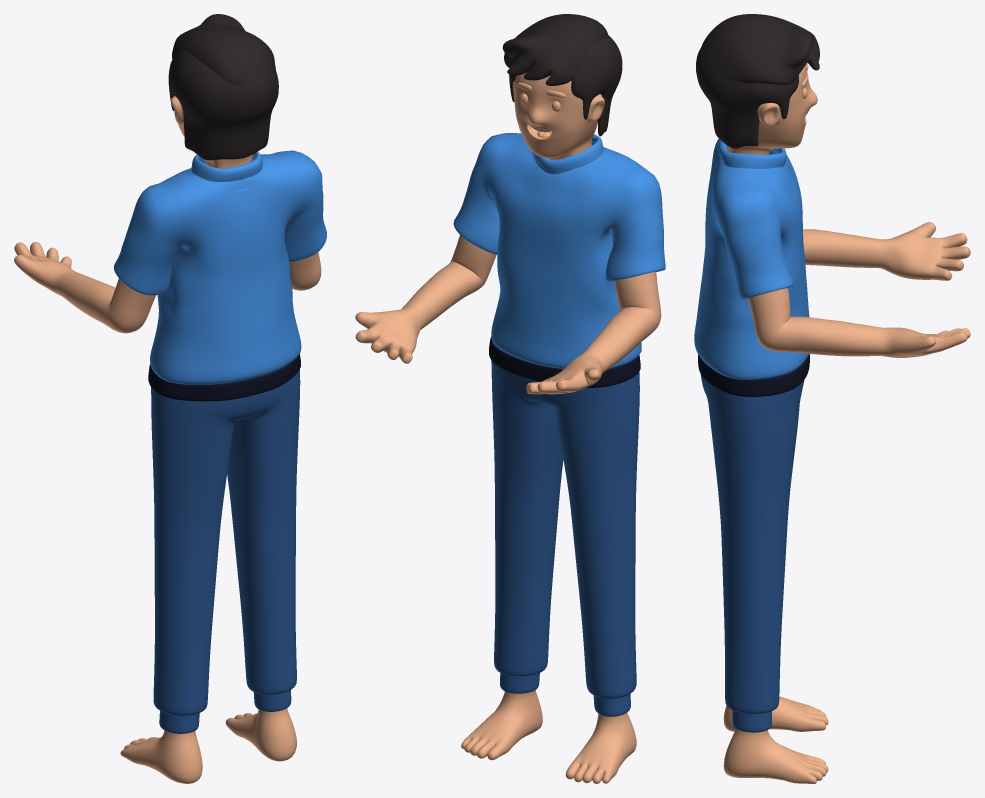
Rendered from figure1.glb.
3 views of the same model, side by side, from view 1: azimuth 30°, elevation 25°; view 2: azimuth 150°, elevation 25°; view 3: azimuth 270°, elevation 25° (orthographic).
Visible parts, largest first — view 1: Cylinder.005, Cylinder.003, Cylinder.001, Cylinder.008, Cylinder.002, Cylinder.004; view 2: Cylinder.005, Cylinder.003, Cylinder.001, Cylinder.002, Cylinder.008, Cylinder.004; view 3: Cylinder.005, Cylinder.001, Cylinder.003, Cylinder.002, Cylinder.008, Cylinder.004.
Part boxes in pixels (bbox=[...]): Cylinder.005: bbox=[151, 369, 300, 733]; Cylinder.003: bbox=[113, 150, 326, 384]; Cylinder.001: bbox=[14, 96, 321, 783]; Cylinder.008: bbox=[168, 50, 278, 160]; Cylinder.002: bbox=[172, 14, 276, 84]; Cylinder.004: bbox=[148, 354, 300, 401]; Cylinder.005: bbox=[491, 360, 639, 716]; Cylinder.003: bbox=[453, 133, 665, 368]; Cylinder.001: bbox=[355, 72, 661, 783]; Cylinder.002: bbox=[502, 14, 608, 85]; Cylinder.008: bbox=[509, 35, 622, 136]; Cylinder.004: bbox=[489, 337, 640, 387]; Cylinder.005: bbox=[700, 374, 804, 732]; Cylinder.001: bbox=[723, 63, 970, 783]; Cylinder.003: bbox=[694, 139, 809, 379]; Cylinder.002: bbox=[701, 14, 819, 84]; Cylinder.008: bbox=[696, 48, 798, 148]; Cylinder.004: bbox=[698, 354, 809, 396].
Bounding box in the file's own units: 1.19 × 3.4 × 1.16.
